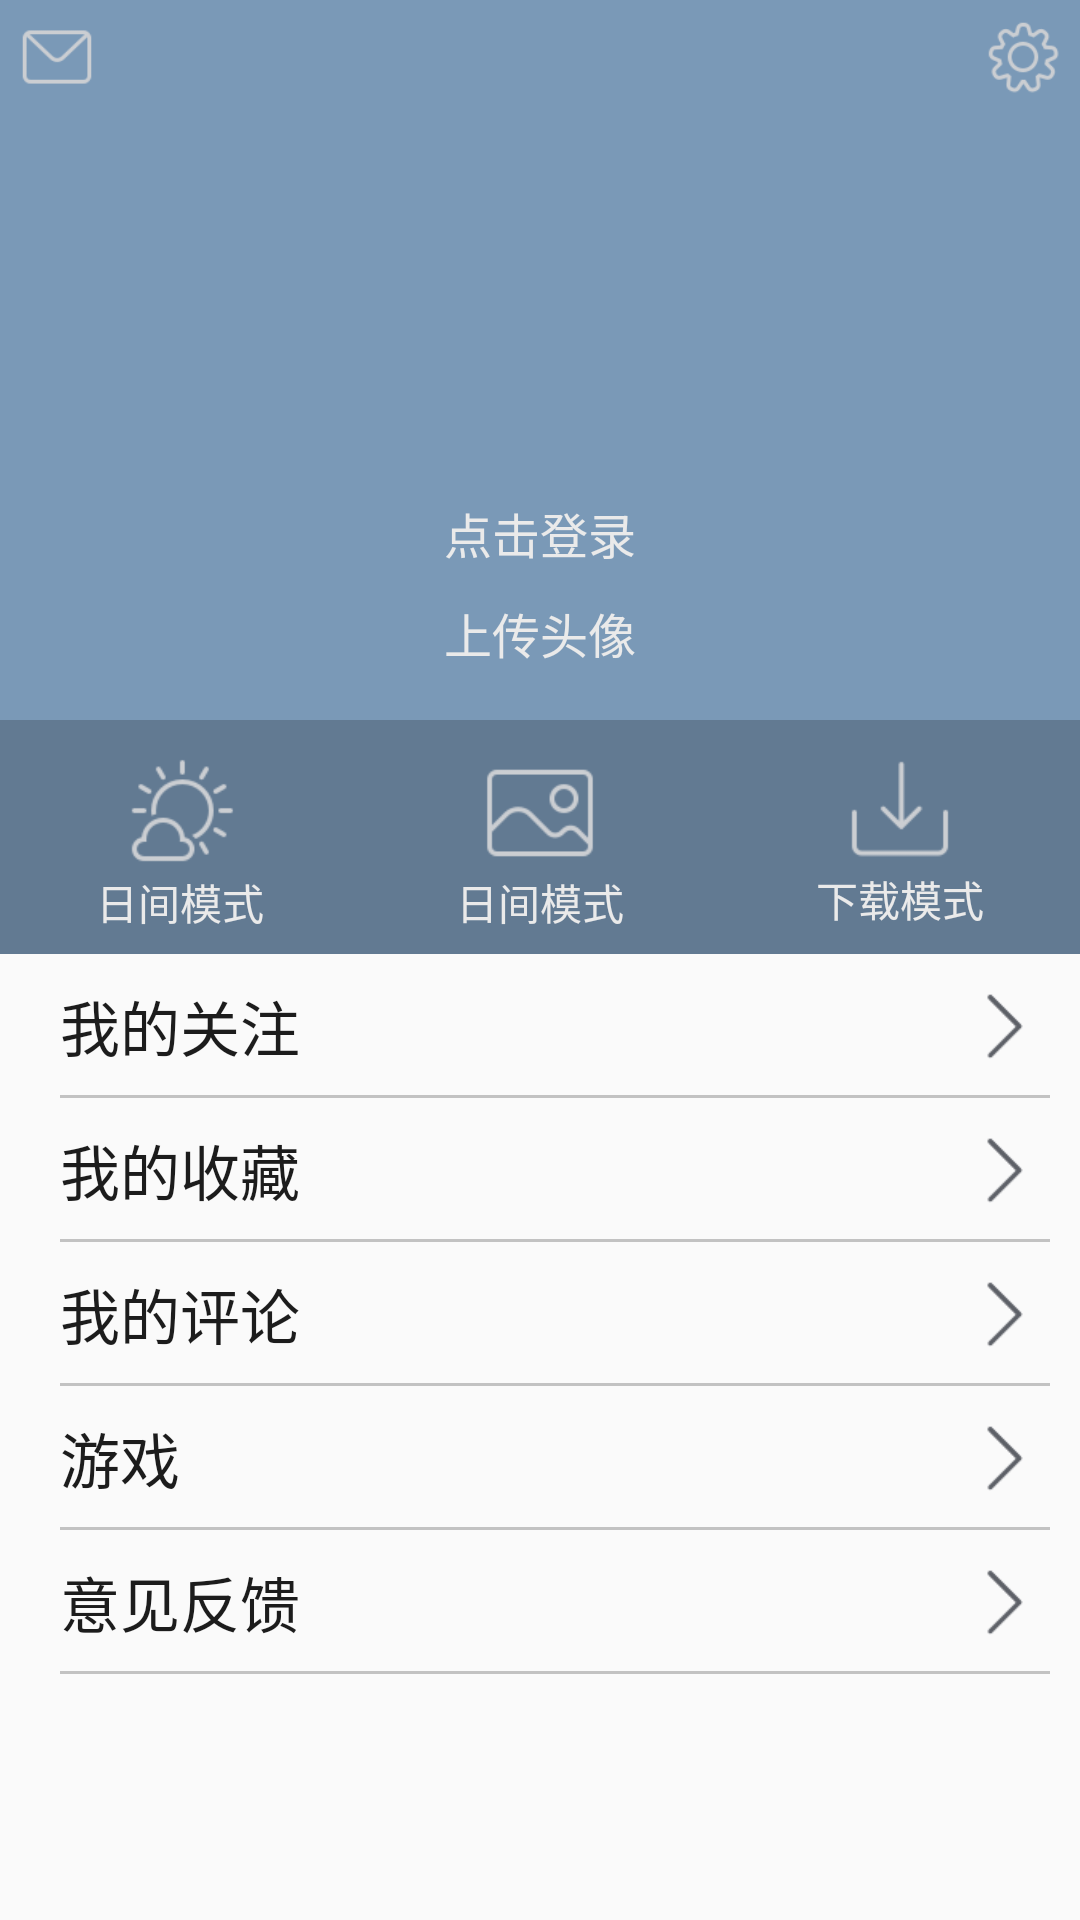

Icon click points for this 1080w x 1920h phone screenshot, format (x,y):
night personal iocn tupian: (540,813)
night personal offline: (900,809)
night userpage news: (57,57)
night userpage setting: (1023,57)
